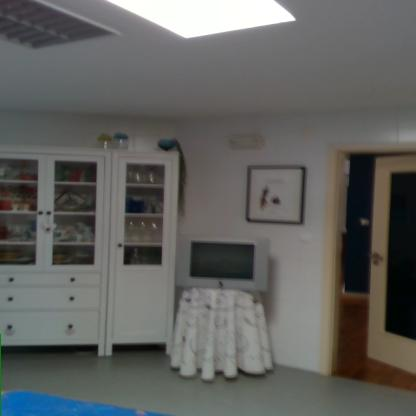semi: (318, 141, 416, 376)
